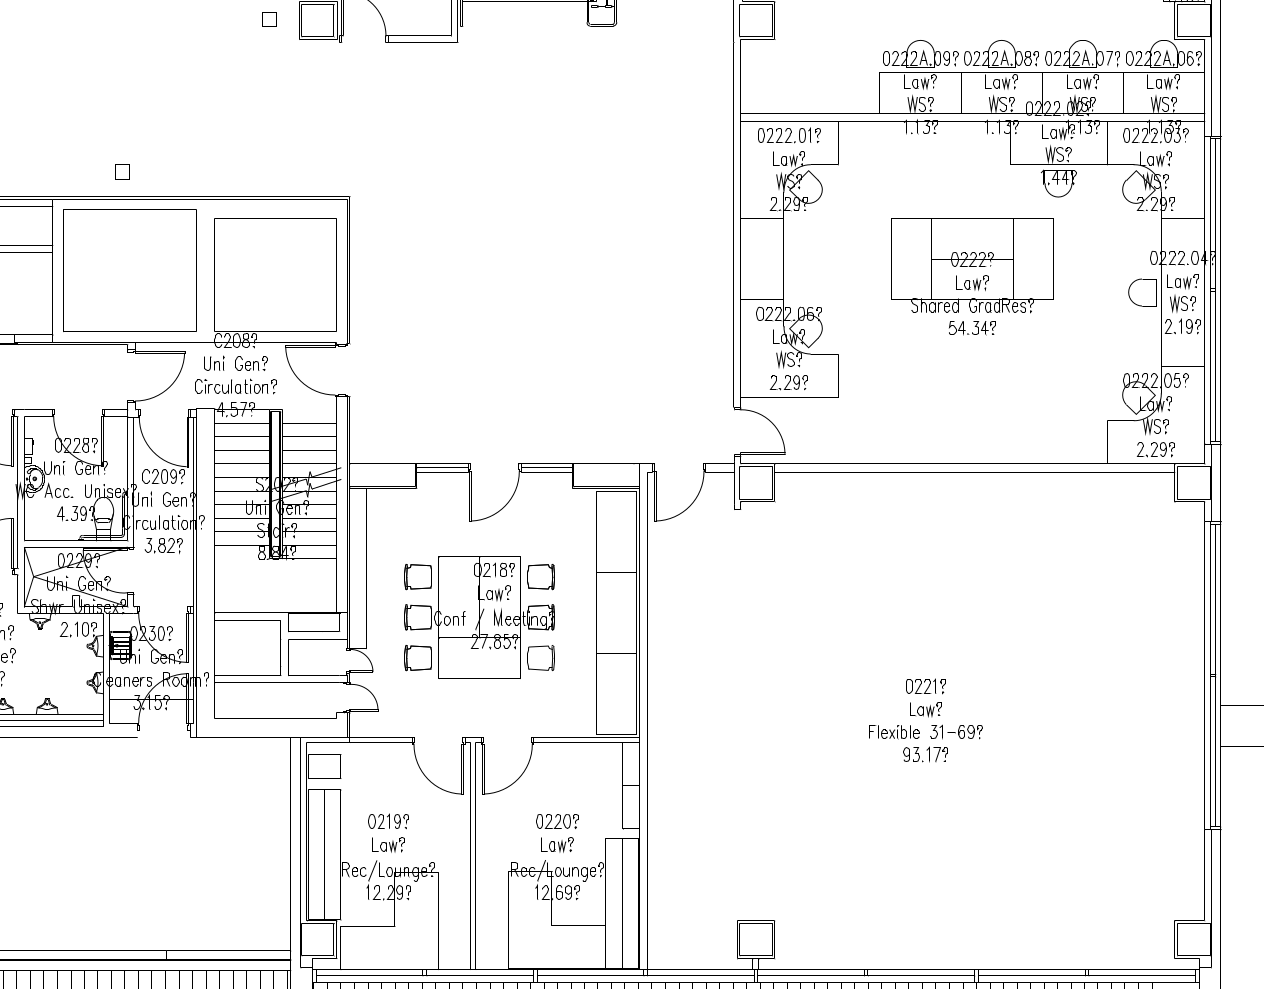door: (465, 470, 523, 526), (650, 468, 708, 524), (279, 344, 337, 400), (131, 347, 189, 403), (481, 741, 539, 797), (407, 741, 465, 797), (134, 672, 192, 728), (735, 403, 793, 459), (132, 411, 190, 467), (50, 412, 108, 468), (133, 610, 191, 666), (346, 681, 383, 722), (346, 646, 376, 678)
